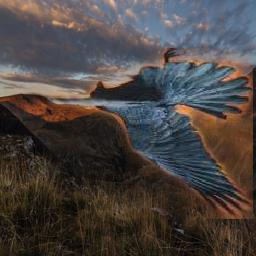Crow: (3, 49, 254, 220)
